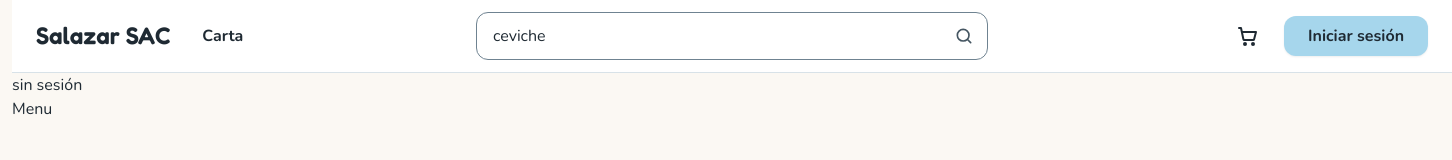
Scenario: Header › "Iniciar sesión" lleva al formulario recordando la pantalla actual con su búsqueda
Click the button "Iniciar sesión". click: (1356, 36)
box: [1284,16,1428,56]
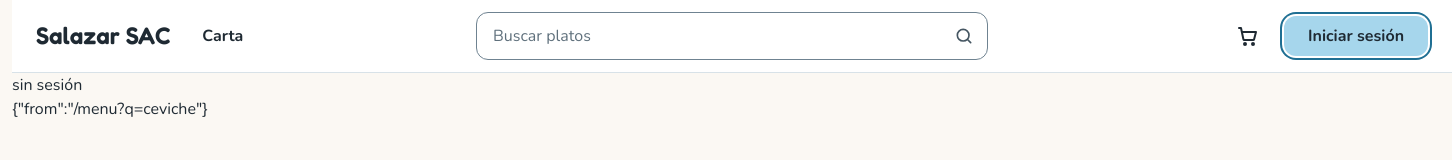
Check: the text with test id "login-from" reads "{\"from\":\"/menu?q=ceviche\"}", box [12,98,208,120]
